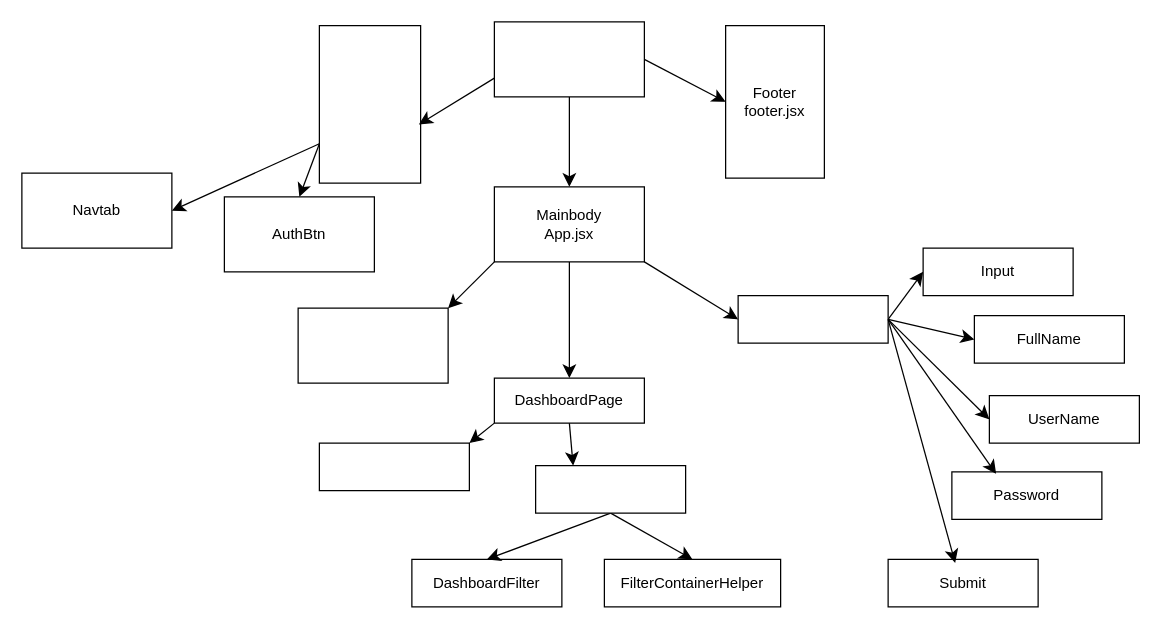
This 1161x629 diagram has some shape labels left out. The shapes that lost their labels are listed below. From the top down, each one's centre as x and y in pixels, then its label:
At (x=568, y=59): "App App.jsx".
At (x=369, y=103): "Header header.jsx".
At (x=812, y=318): "AuthForm".
At (x=372, y=345): "WelcomePage".
At (x=393, y=466): "DashboardMain".
At (x=610, y=488): "DashboardFilters".
